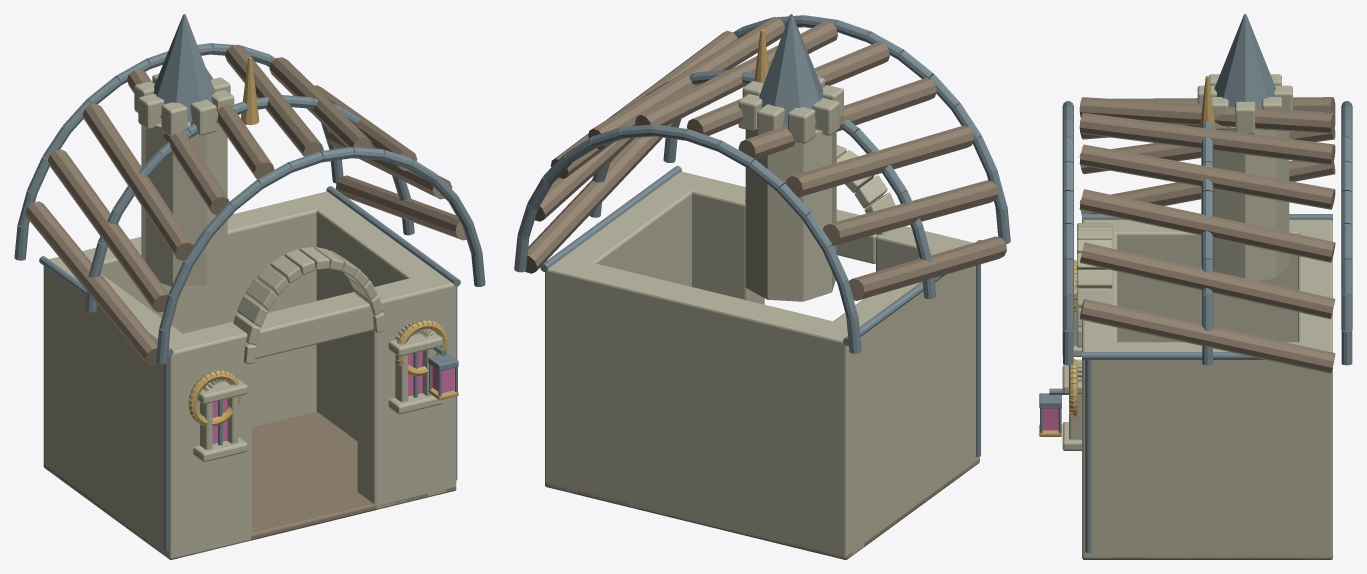
File: a4_service_0.glb
3 views of the same model, side by side, from view 1: azimuth 30°, elevation 25°; view 2: azimuth 150°, elevation 25°; view 3: azimuth 270°, elevation 25° (orthographic). The views are drawn at different scales.
Parts seen in each view (by area): view 1: Roof.012, Side.012, Front.012, Body.030; view 2: Body.030, Roof.012, Side.012, Front.012; view 3: Side.012, Roof.012, Body.030, Front.012.
Part boxes in pixels (left/top/right/bottom): Roof.012: left=14, top=14, right=485, bottom=365; Side.012: left=43, top=192, right=457, bottom=559; Front.012: left=154, top=247, right=458, bottom=558; Body.030: left=43, top=191, right=456, bottom=559; Body.030: left=545, top=259, right=979, bottom=559; Roof.012: left=514, top=14, right=1010, bottom=353; Side.012: left=546, top=172, right=980, bottom=558; Front.012: left=677, top=145, right=979, bottom=474; Side.012: left=1082, top=220, right=1331, bottom=558; Roof.012: left=1062, top=14, right=1352, bottom=373; Body.030: left=1082, top=220, right=1332, bottom=559; Front.012: left=1039, top=220, right=1117, bottom=559.
Size of the model in its own units: 3.05 by 4 by 2.5.
